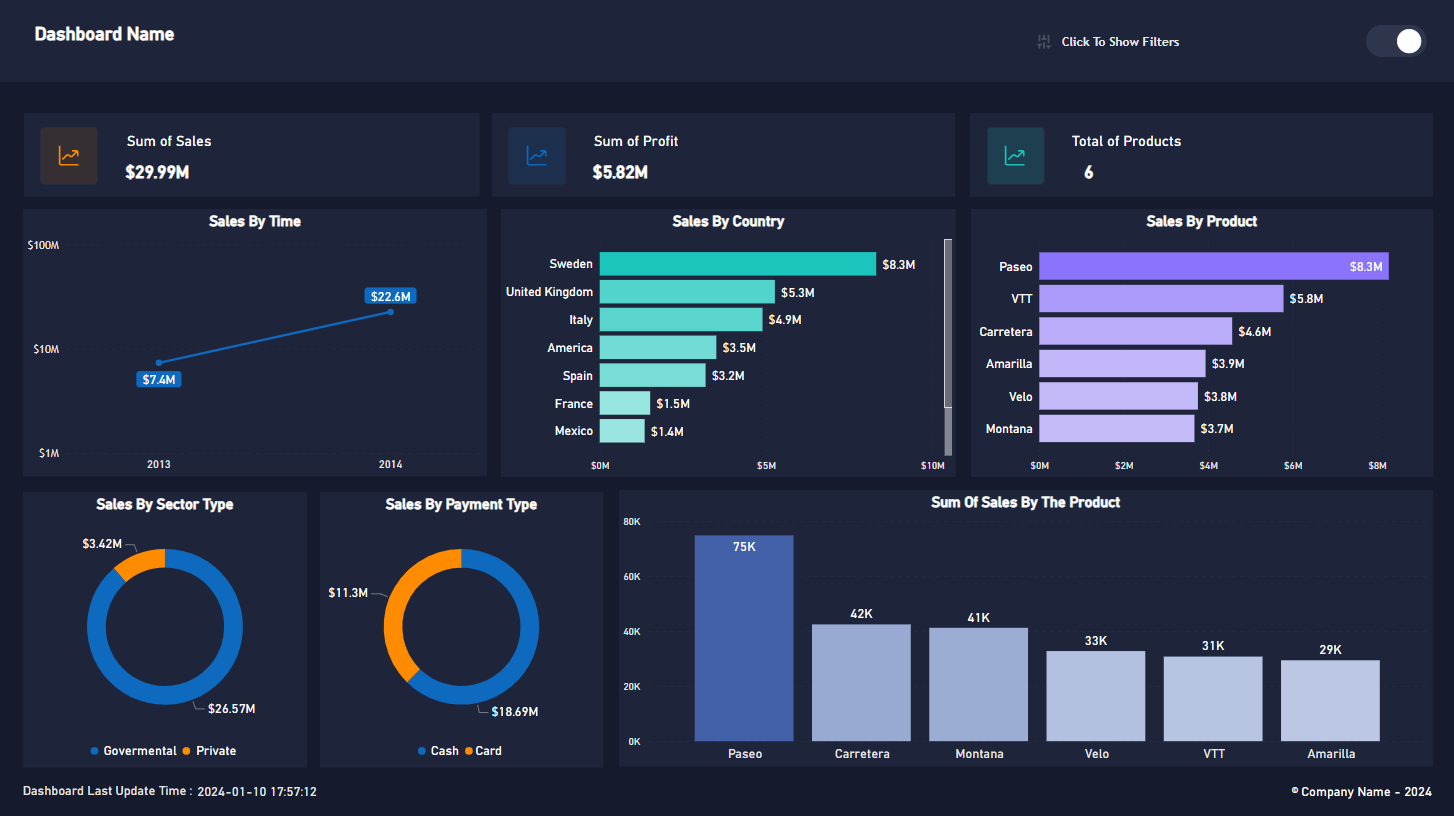

The page's visual inventory and layout, read from the dashboard file:
{"tool":"powerbi","page":{"name":"Dark Mode","canvas":[1920,1080],"ordinal":0},"visuals":[{"type":"shape","title":"BG","box":[0,0,1920,111.5],"z":0,"group":"g5"},{"type":"shape","box":[1802,36.4,80,42],"z":0,"group":"g1"},{"type":"image","box":[1362.7,43.7,29.5,30.9],"z":0,"group":"g2"},{"type":"shape","title":"BG","box":[34,152.8,599.8,109.9],"z":0,"group":"g3"},{"type":"barChart","title":"Sales By Product","fields":{"Category":["DummyData. Product "],"Y":["Sum(DummyData.  Sales )"]},"box":[1280.9,278.7,608.6,352.9],"z":0},{"type":"card","fields":{"Values":["DummyData.Company"]},"box":[1672.5,1025.2,247,44.7],"z":0,"group":"g4"},{"type":"textbox","title":"Main Text box","box":[43.3,29.3,440.9,53],"z":1000,"group":"g5"},{"type":"shape","box":[1843,42.1,31.6,31.6],"z":1000,"group":"g1"},{"type":"textbox","title":"Reset","box":[1395.3,45,219.6,41.3],"z":1000,"group":"g2"},{"type":"card","fields":{"Values":["Sum(DummyData.  Sales )"]},"box":[147.6,201.2,124.8,57.1],"z":1000,"group":"g3"},{"type":"lineChart","title":"Sales By Time","fields":{"Category":["DummyData.Date.Variation.Date Hierarchy.Year"],"Y":["Sum(DummyData.  Sales )"]},"box":[33.5,279.1,611.2,351.6],"z":1000},{"type":"card","fields":{"Values":["Min(LastUpdateDate.LastUpdateDate)"]},"box":[196.5,1025.2,289.8,44.8],"z":1000,"group":"g4"},{"type":"group","id":"g1","title":"Switch Button","box":[1793.7,32.6,96.3,50.1],"z":2000,"group":"g5"},{"type":"actionButton","box":[1793.7,32.6,96.3,50.1],"z":2000,"group":"g1"},{"type":"actionButton","box":[1350.7,33.5,260.4,51.4],"z":2000,"group":"g2"},{"type":"textbox","title":"Text box","box":[163.8,174.2,300.5,43.8],"z":2000,"group":"g3"},{"type":"barChart","title":"Sales By Country","fields":{"Y":["Sum(DummyData.  Sales )"],"Category":["DummyData.Country"]},"box":[663,278.7,599.3,352.9],"z":2000},{"type":"textbox","title":"Text box","box":[27.9,1030.8,244.2,40.5],"z":2000,"group":"g4"},{"type":"group","id":"g2","title":"Show Filters","box":[1350.7,33.5,264.2,52.8],"z":3000,"group":"g5"},{"type":"shape","title":"BG","box":[651,152.7,610.1,109.9],"z":3000,"group":"g3"},{"type":"columnChart","title":"Sum Of Sales By The Product","fields":{"Y":["Sum(DummyData.Units Sold)"],"Category":["DummyData. Product "]},"box":[818,649.6,1071.5,363.8],"z":3000},{"type":"shape","title":"Rectangle Right","box":[54.4,170.8,76,76],"z":4000,"group":"g3"},{"type":"donutChart","title":"Sales By Sector Type","fields":{"Category":["DummyData. Sector Type "],"Y":["Sum(DummyData.  Sales )"]},"box":[33.5,651.6,374,362.8],"z":4000},{"type":"shape","title":"BG","box":[1279.5,152.7,610.1,109.9],"z":5000,"group":"g3"},{"type":"donutChart","title":"Sales By Payment Type","fields":{"Category":["DummyData. Payment Type "],"Y":["Sum(DummyData.  Sales )"]},"box":[424.2,651.6,372.6,362.8],"z":5000},{"type":"group","id":"g3","title":"Top Cards","box":[34,152.7,1855.6,110],"z":6000},{"type":"card","fields":{"Values":["Sum(DummyData. Profit )"]},"box":[757,201.2,124.8,57.1],"z":6000,"group":"g3"},{"type":"card","title":"Card","fields":{"Values":["Count(DummyData. Product )"]},"box":[1373.7,201.9,125.5,56.9],"z":7000,"group":"g3"},{"type":"group","id":"g4","title":"Footer","box":[27.9,1025.2,1891.6,46],"z":7000},{"type":"group","id":"g5","title":"Navbar","box":[0,0,1920,111.5],"z":8000},{"type":"textbox","title":"Text box","box":[780,174.2,300.5,43.8],"z":8000,"group":"g3"},{"type":"textbox","title":"Text box","box":[1408.8,174.2,300.5,43.8],"z":9000,"group":"g3"},{"type":"shape","title":"Rectangle Right","box":[671.6,170.8,76,76],"z":10000,"group":"g3"},{"type":"shape","title":"Rectangle Right","box":[1301.8,170.8,76,76],"z":11000,"group":"g3"},{"type":"image","box":[690.7,191.2,36.3,36.3],"z":12000,"group":"g3"},{"type":"image","box":[1321.4,191.2,36.3,36.3],"z":13000,"group":"g3"},{"type":"image","box":[75.3,191.2,36.3,36.3],"z":14000,"group":"g3"}]}

Visuals, with their boxes in screenshot pixels (x1, y1, x2, y2), scaled from the page's 1920x1080 canvas onto the 1454x816 screenshot:
"BG" shape: (left=0, top=0, right=1453, bottom=84)
shape: (left=1365, top=28, right=1425, bottom=59)
image: (left=1032, top=33, right=1054, bottom=56)
"BG" shape: (left=26, top=115, right=480, bottom=198)
"Sales By Product" barChart: (left=970, top=211, right=1431, bottom=477)
card - DummyData.Company: (left=1267, top=775, right=1453, bottom=808)
"Main Text box" textbox: (left=33, top=22, right=367, bottom=62)
shape: (left=1396, top=32, right=1420, bottom=56)
"Reset" textbox: (left=1057, top=34, right=1223, bottom=65)
card - Sum(DummyData.  Sales ): (left=112, top=152, right=206, bottom=195)
"Sales By Time" lineChart: (left=25, top=211, right=488, bottom=477)
card - Min(LastUpdateDate.LastUpdateDate): (left=149, top=775, right=368, bottom=808)
"Switch Button" group: (left=1358, top=25, right=1431, bottom=62)
actionButton: (left=1358, top=25, right=1431, bottom=62)
actionButton: (left=1023, top=25, right=1220, bottom=64)
"Text box" textbox: (left=124, top=132, right=352, bottom=165)
"Sales By Country" barChart: (left=502, top=211, right=956, bottom=477)
"Text box" textbox: (left=21, top=779, right=206, bottom=809)
"Show Filters" group: (left=1023, top=25, right=1223, bottom=65)
"BG" shape: (left=493, top=115, right=955, bottom=198)
"Sum Of Sales By The Product" columnChart: (left=619, top=491, right=1431, bottom=766)
"Rectangle Right" shape: (left=41, top=129, right=99, bottom=186)
"Sales By Sector Type" donutChart: (left=25, top=492, right=309, bottom=766)
"BG" shape: (left=969, top=115, right=1431, bottom=198)
"Sales By Payment Type" donutChart: (left=321, top=492, right=603, bottom=766)
"Top Cards" group: (left=26, top=115, right=1431, bottom=198)
card - Sum(DummyData. Profit ): (left=573, top=152, right=668, bottom=195)
"Card" card: (left=1040, top=153, right=1135, bottom=196)
"Footer" group: (left=21, top=775, right=1453, bottom=809)
"Navbar" group: (left=0, top=0, right=1453, bottom=84)
"Text box" textbox: (left=591, top=132, right=818, bottom=165)
"Text box" textbox: (left=1067, top=132, right=1294, bottom=165)
"Rectangle Right" shape: (left=509, top=129, right=566, bottom=186)
"Rectangle Right" shape: (left=986, top=129, right=1043, bottom=186)
image: (left=523, top=144, right=551, bottom=172)
image: (left=1001, top=144, right=1028, bottom=172)
image: (left=57, top=144, right=85, bottom=172)
